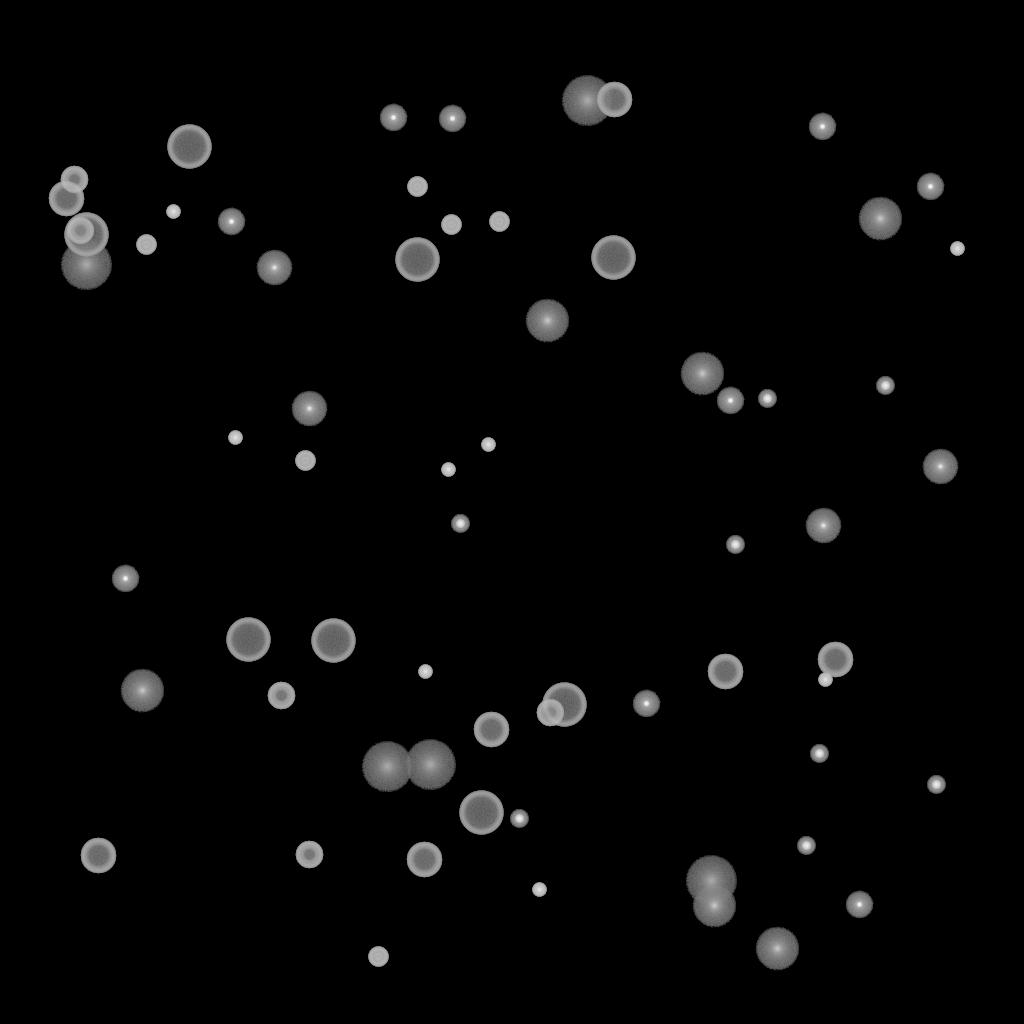depth:-10: (379, 104, 407, 132), (111, 565, 139, 593), (808, 113, 836, 141), (438, 105, 466, 133), (916, 173, 944, 201), (217, 208, 245, 236), (716, 387, 744, 415), (632, 690, 660, 718), (845, 891, 873, 919)
depth:-20: (451, 515, 469, 533), (726, 536, 744, 554), (797, 837, 815, 855), (810, 745, 828, 763), (510, 810, 528, 828), (758, 390, 776, 408), (927, 776, 945, 794), (876, 377, 894, 395)
depth:-30: (228, 431, 242, 445), (532, 883, 546, 897), (818, 673, 832, 687), (166, 205, 180, 219), (481, 438, 495, 452), (441, 463, 455, 477), (950, 242, 964, 256), (418, 665, 432, 679)
depth:-40: (368, 947, 388, 967), (136, 235, 156, 255), (489, 212, 509, 232), (441, 215, 461, 235), (407, 177, 427, 197), (295, 451, 315, 471)
depth:-50: (66, 217, 94, 245), (295, 841, 323, 869), (60, 166, 88, 194), (267, 682, 295, 710), (536, 699, 564, 727)
depth:-60: (80, 838, 116, 874), (707, 654, 743, 690), (596, 82, 632, 118), (406, 842, 442, 878), (48, 181, 84, 217), (817, 642, 853, 678), (473, 712, 509, 748)
depth:-70: (542, 683, 586, 727), (226, 618, 270, 662), (591, 236, 635, 280), (311, 619, 355, 663), (167, 125, 211, 169), (64, 213, 108, 257), (459, 791, 503, 835), (395, 238, 439, 282)
depth:0: (256, 250, 292, 286), (805, 508, 841, 544), (291, 391, 327, 427), (922, 449, 958, 485)
depth:10: (680, 352, 724, 396), (120, 669, 164, 713), (755, 927, 799, 971), (692, 884, 736, 928), (858, 197, 902, 241), (525, 299, 569, 343)
depth:20: (404, 740, 456, 790), (60, 240, 112, 290), (685, 856, 737, 906), (561, 76, 613, 126), (361, 742, 413, 792)
